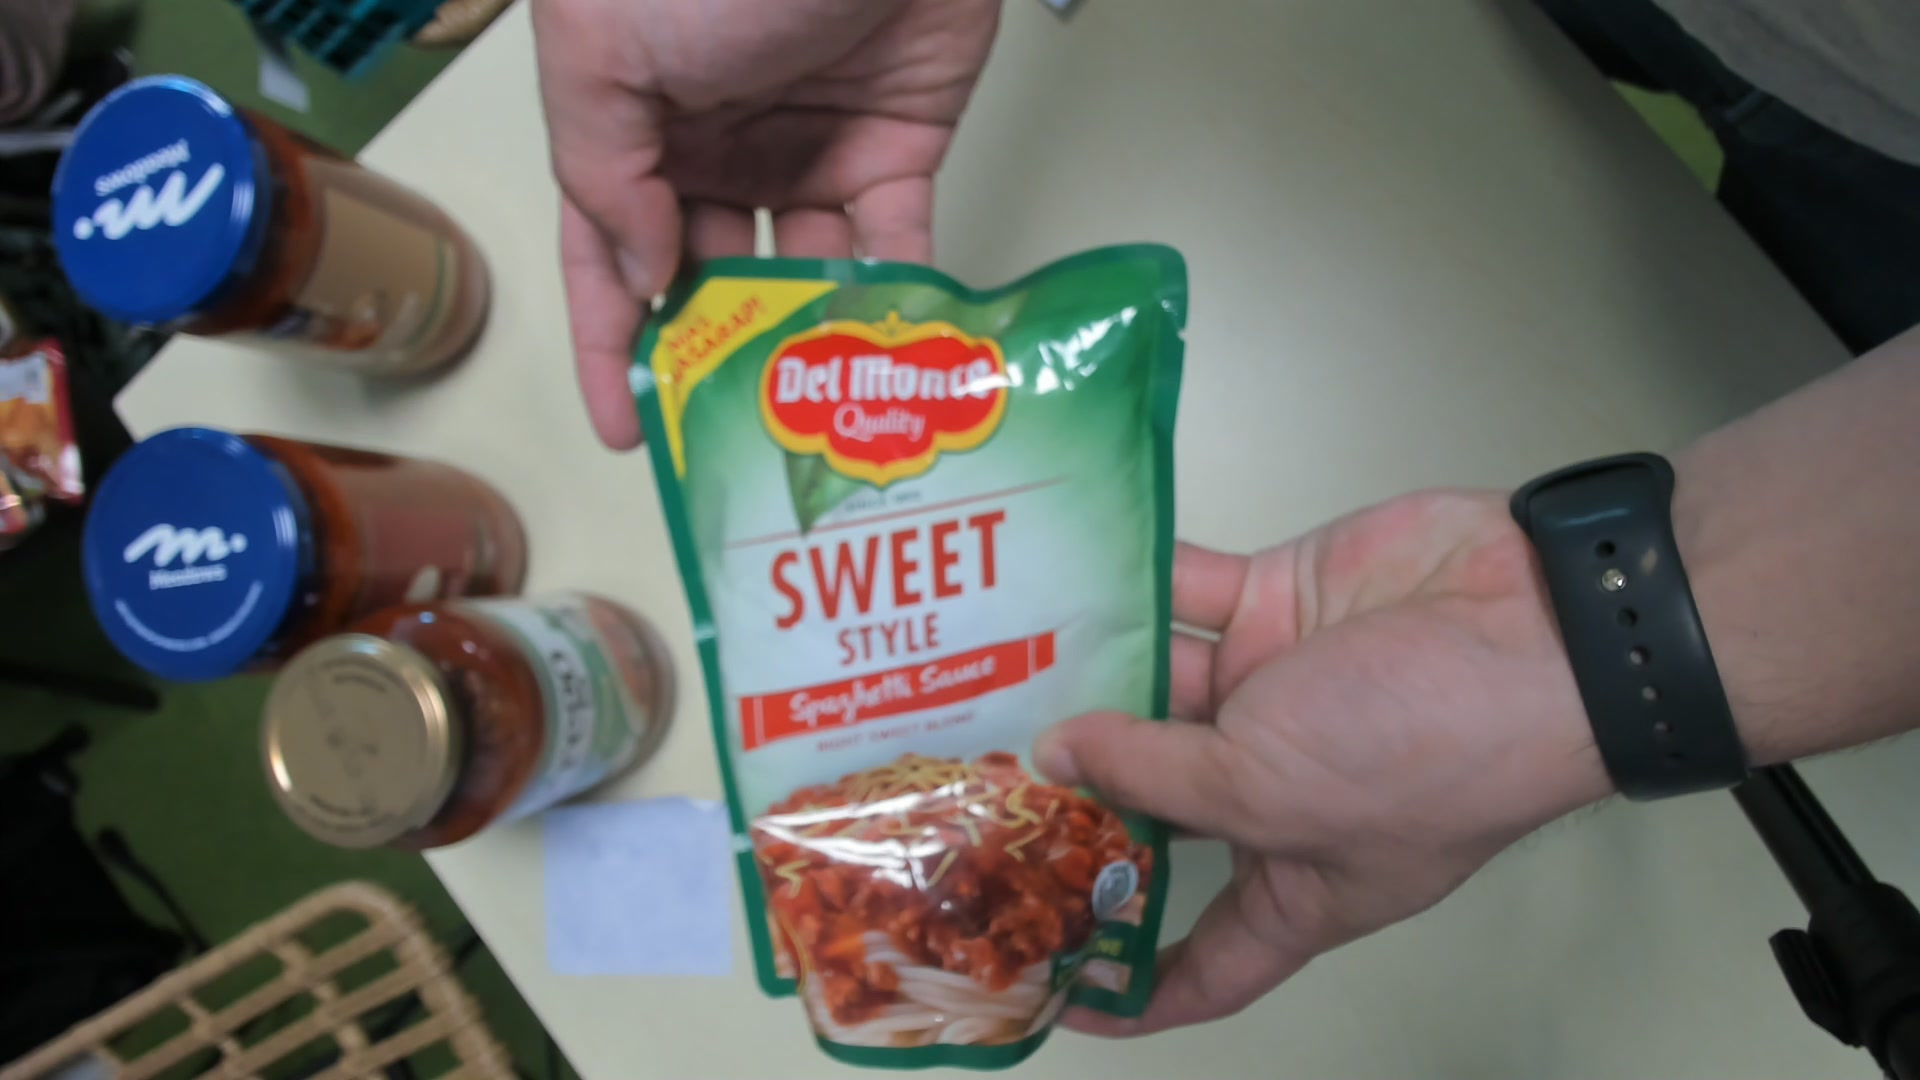PastaSauce_500-599g_Halal_NonHealthy: (642, 255, 1179, 1075)
